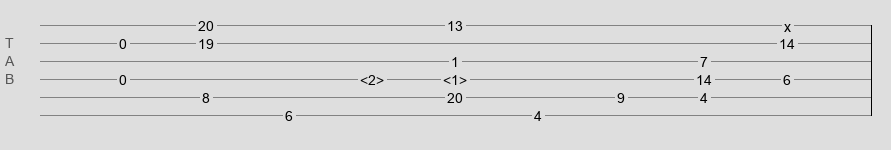0: (119, 36, 127, 46), (119, 72, 127, 82)
1: (451, 54, 459, 64)
13: (447, 18, 463, 28)
14: (696, 72, 712, 82), (779, 36, 795, 46)
19: (198, 36, 214, 46)
20: (198, 18, 214, 28), (447, 90, 463, 100)
4: (534, 108, 542, 118), (700, 90, 708, 100)
6: (285, 108, 293, 118), (783, 72, 791, 82)
7: (700, 54, 708, 64)
8: (202, 90, 210, 100)
9: (617, 90, 625, 100)
harmonic: (360, 72, 384, 82), (443, 72, 467, 82)
x: (784, 19, 791, 27)
